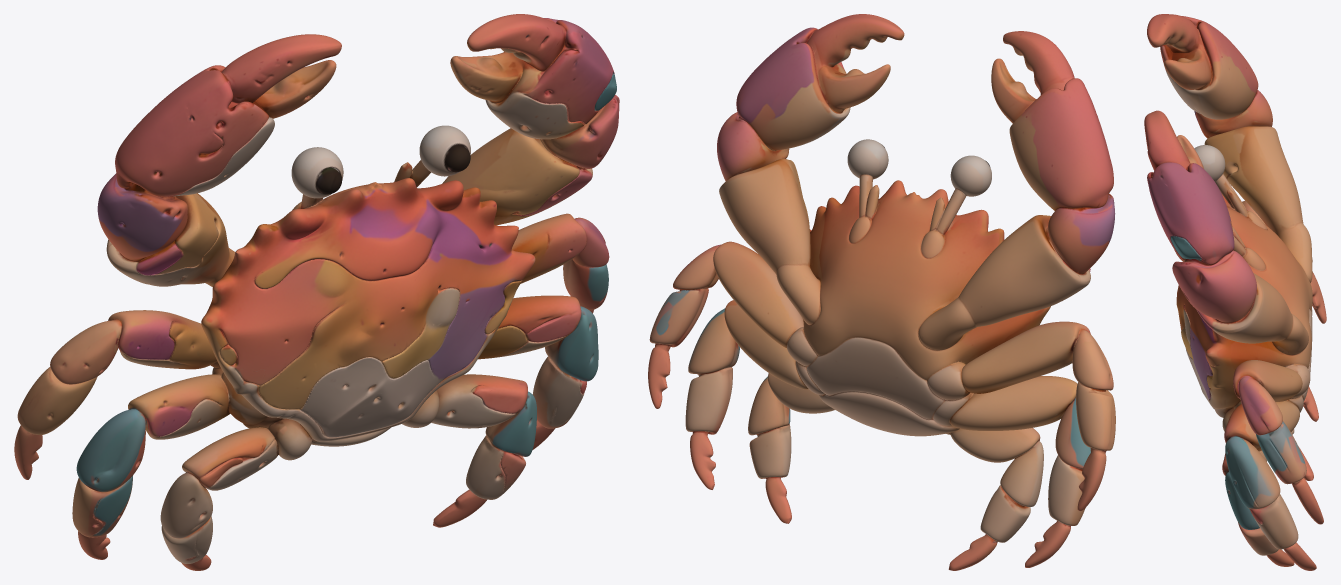
3 views of the same model, side by side, from view 1: azimuth 30°, elevation 25°; view 2: azimuth 150°, elevation 25°; view 3: azimuth 270°, elevation 25° (orthographic). The views are drawn at different scales.
Parts seen in each view (by area): view 1: texture_v128_768.001; view 2: texture_v128_768.001; view 3: texture_v128_768.001.
Part boxes in pixels (box(x1,y1,x2,y2)): texture_v128_768.001: box(14, 14, 619, 570); texture_v128_768.001: box(648, 14, 1115, 570); texture_v128_768.001: box(1144, 14, 1326, 570).
Bounding box in the file's own units: 1.01 × 1.01 × 0.3615.
1 material, 1 textured.
